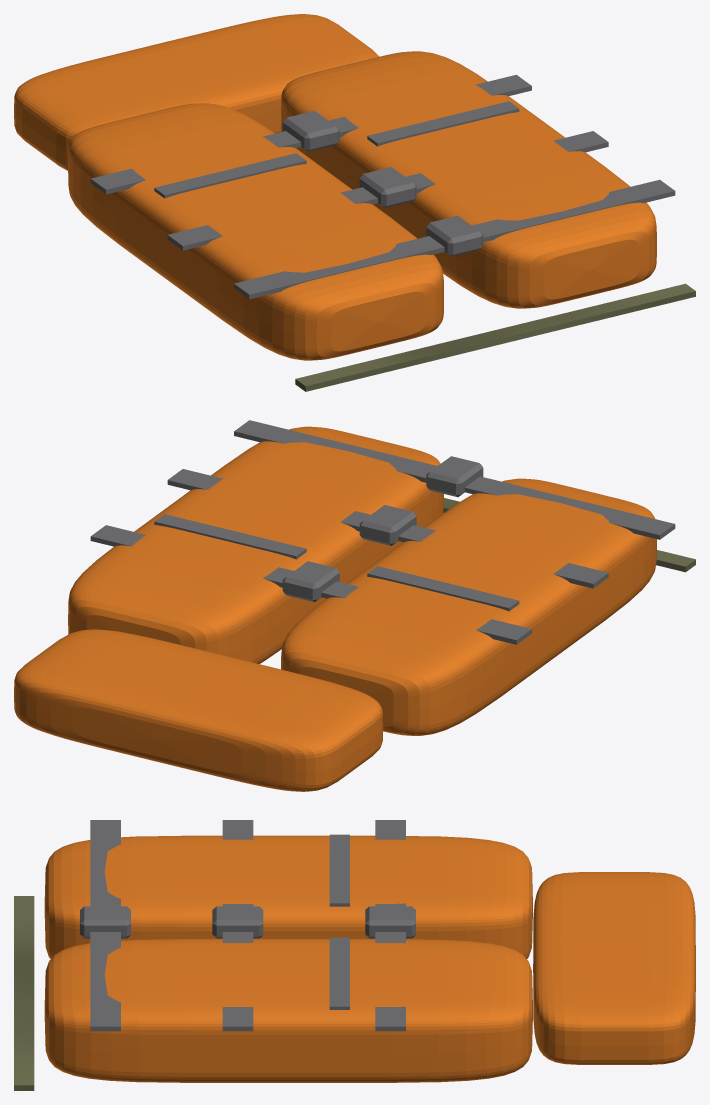
The model's file is colete_salva_vidas.glb.
3 renders of one model, top to bottom at view 1: azimuth 30°, elevation 25°; view 2: azimuth 150°, elevation 25°; view 3: azimuth 270°, elevation 25°, orthographic.
Parts seen in each view (by area): view 1: colete_salva_vidas_laranja_boia, colete_salva_vidas_plastico_preto, colete_salva_vidas_lona; view 2: colete_salva_vidas_laranja_boia, colete_salva_vidas_plastico_preto, colete_salva_vidas_lona; view 3: colete_salva_vidas_laranja_boia, colete_salva_vidas_plastico_preto, colete_salva_vidas_lona.
Part boxes in pixels (bbox=[...]): colete_salva_vidas_laranja_boia: bbox=[14, 14, 656, 360]; colete_salva_vidas_plastico_preto: bbox=[90, 74, 675, 299]; colete_salva_vidas_lona: bbox=[295, 283, 695, 391]; colete_salva_vidas_laranja_boia: bbox=[14, 426, 656, 791]; colete_salva_vidas_plastico_preto: bbox=[90, 420, 675, 644]; colete_salva_vidas_lona: bbox=[443, 498, 695, 572]; colete_salva_vidas_laranja_boia: bbox=[44, 835, 695, 1082]; colete_salva_vidas_plastico_preto: bbox=[80, 820, 415, 1031]; colete_salva_vidas_lona: bbox=[14, 896, 34, 1090].
Size of the model in its own units: 0.48 by 0.09 by 0.67.
3 materials, 1 textured.
